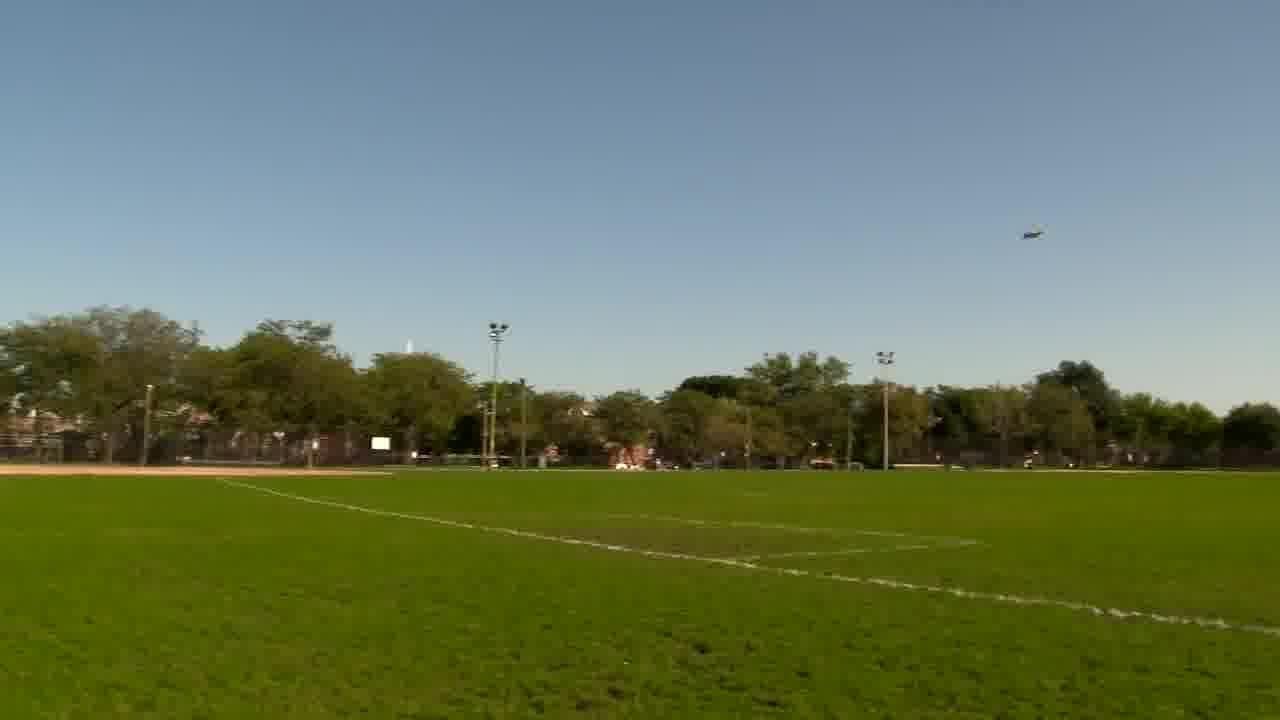drone: (1012, 217, 1048, 256)
